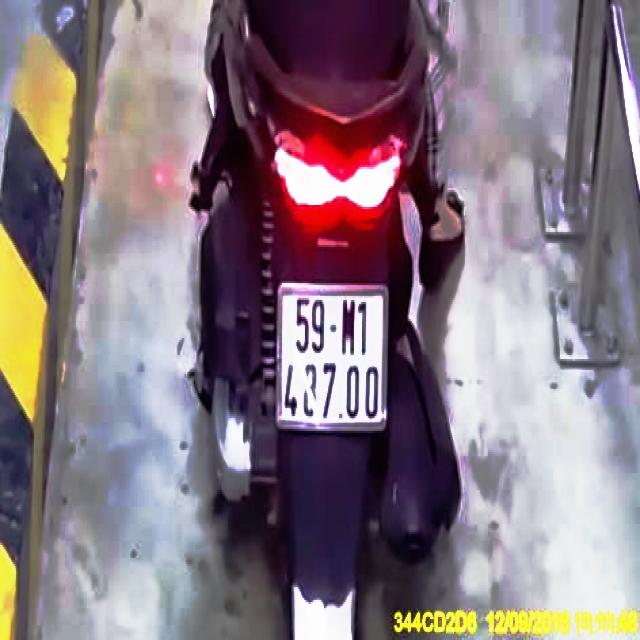license_plate: (282, 291, 385, 428)
